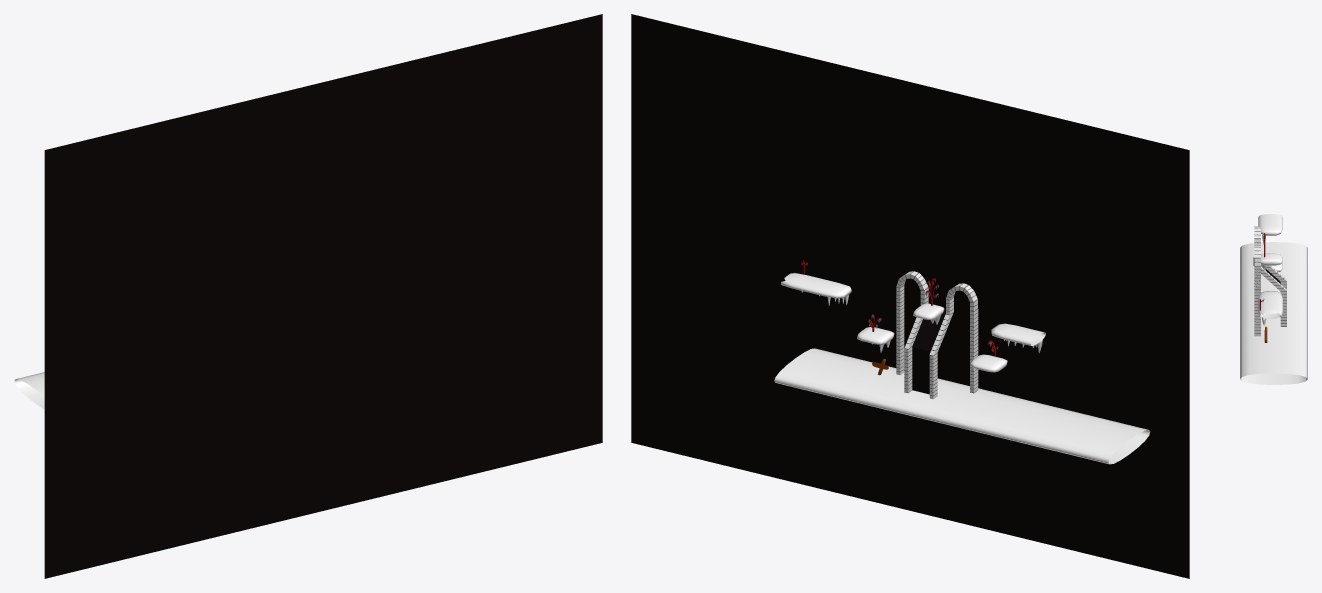
The model's file is screen_17_00.obj.
3 views of the same model, side by side, from view 1: azimuth 30°, elevation 25°; view 2: azimuth 150°, elevation 25°; view 3: azimuth 270°, elevation 25° (orthographic). The views are drawn at different scales.
Visible parts, largest first — view 1: Background.005_Plane.013; view 2: Background.005_Plane.013, OverGround.046_Cube.1179, Cube.032_Cube.1390, Cube.031_Cube.1389, Plane.004_Plane.015, OverGround.044_Cube.1177, OverGround.051_Cube.1357; view 3: OverGround.046_Cube.1179, Cube.031_Cube.1389, OverGround.044_Cube.1177, OverGround.051_Cube.1357, Cube.032_Cube.1390, OverGround.049_Cube.1355.
Boxes of the visible parts, bbox=[...] form: Background.005_Plane.013: bbox=[44, 14, 602, 578]; Background.005_Plane.013: bbox=[631, 14, 1189, 578]; OverGround.046_Cube.1179: bbox=[774, 348, 1150, 464]; Cube.032_Cube.1390: bbox=[929, 283, 978, 399]; Cube.031_Cube.1389: bbox=[896, 271, 928, 392]; Plane.004_Plane.015: bbox=[912, 308, 945, 394]; OverGround.044_Cube.1177: bbox=[781, 273, 851, 298]; OverGround.051_Cube.1357: bbox=[991, 323, 1045, 346]; OverGround.046_Cube.1179: bbox=[1240, 242, 1307, 384]; Cube.031_Cube.1389: bbox=[1254, 245, 1286, 336]; OverGround.044_Cube.1177: bbox=[1258, 291, 1282, 318]; OverGround.051_Cube.1357: bbox=[1258, 214, 1282, 235]; Cube.032_Cube.1390: bbox=[1254, 226, 1286, 289]; OverGround.049_Cube.1355: bbox=[1261, 253, 1282, 265].
Size of the model in its own units: 78.92 by 57.92 by 13.66.
